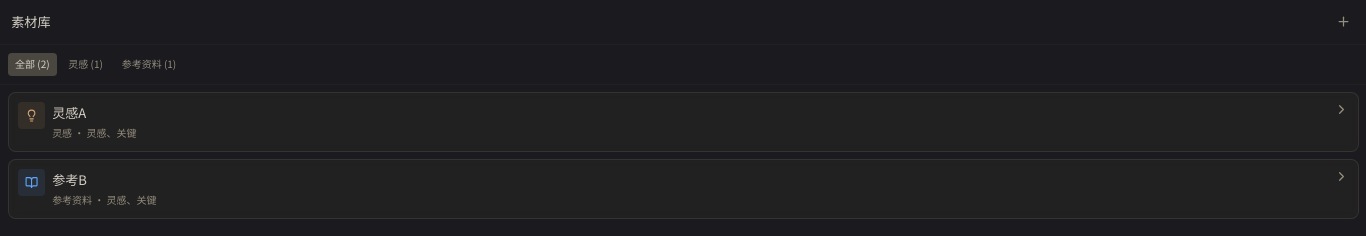
Scenario: MaterialsPanel › 点击类型筛选只展示该类型素材
Click the button "参考资料 (1)" at (149, 64), box [114, 52, 184, 76]
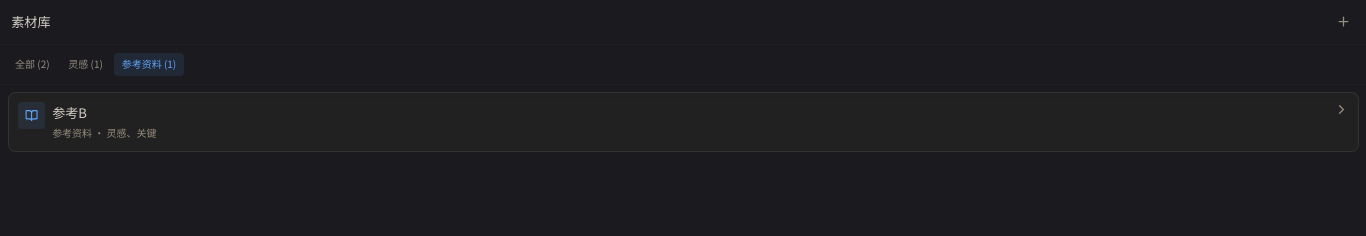
Expected: the text "参考B" is shown, [52, 102, 86, 123]
Now the text "灵感A" is gone
